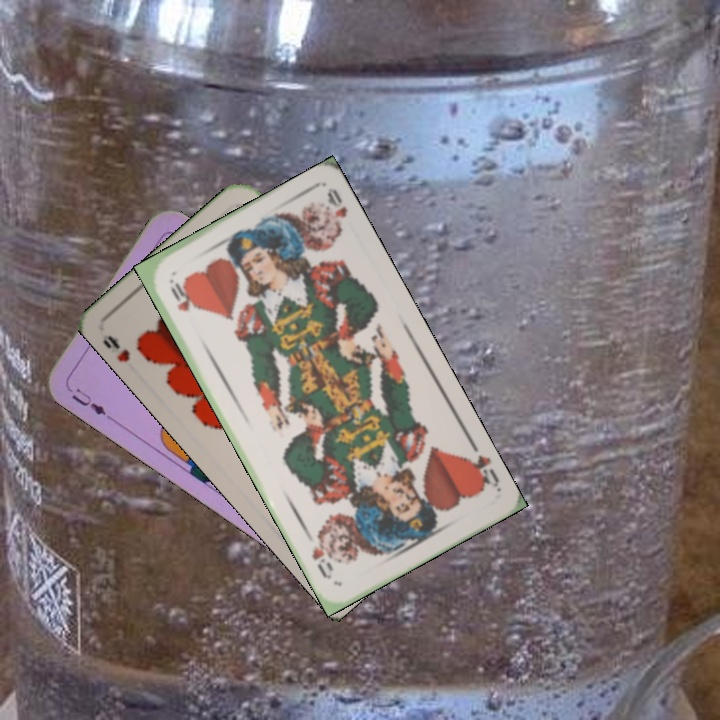EU: (62, 381, 114, 423)
H9: (98, 331, 133, 365)
HO: (461, 450, 503, 493), (164, 274, 193, 314)
